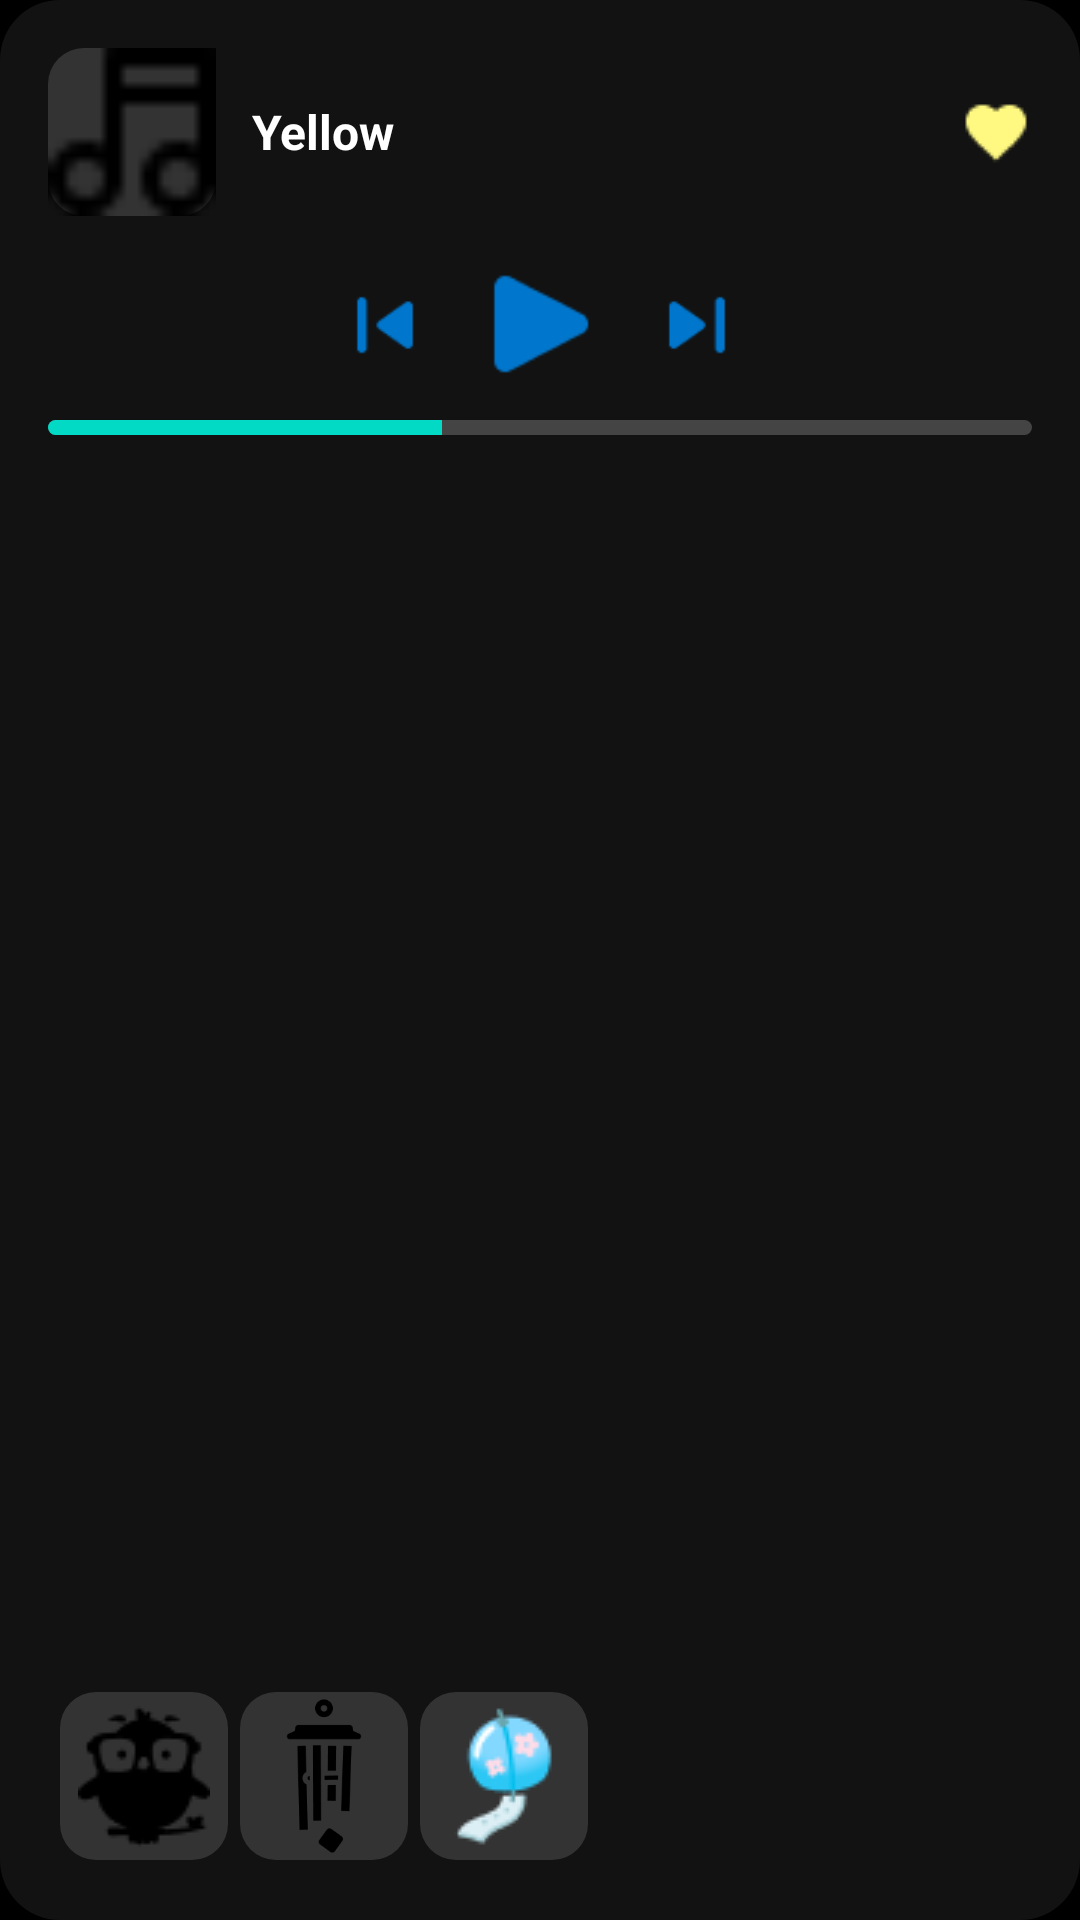

Where icons sit on this 1080 × 1920 app screen, as (x1, y1, x2, y2):
bigplay: (494, 275, 589, 373)
earlybirds: (60, 1692, 228, 1860)
heart: (965, 104, 1027, 161)
next: (669, 297, 726, 354)
prev: (357, 297, 414, 354)
